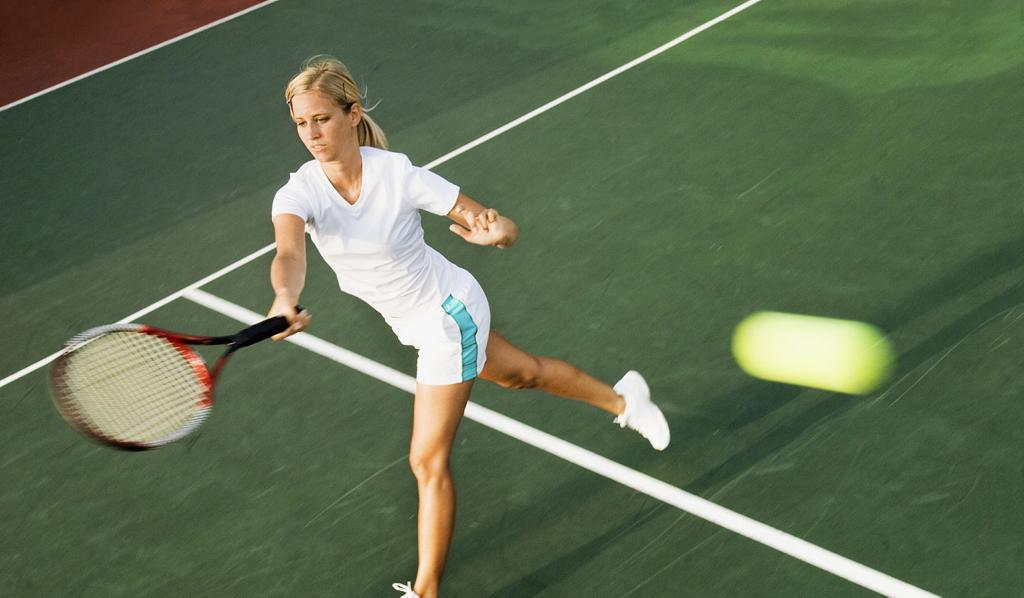face: (291, 95, 351, 165)
